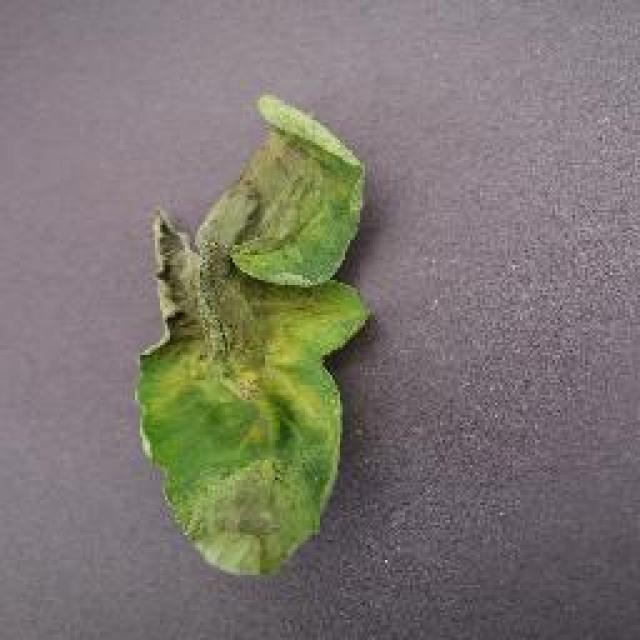Tomato late blight leaf: (144, 96, 376, 576)
